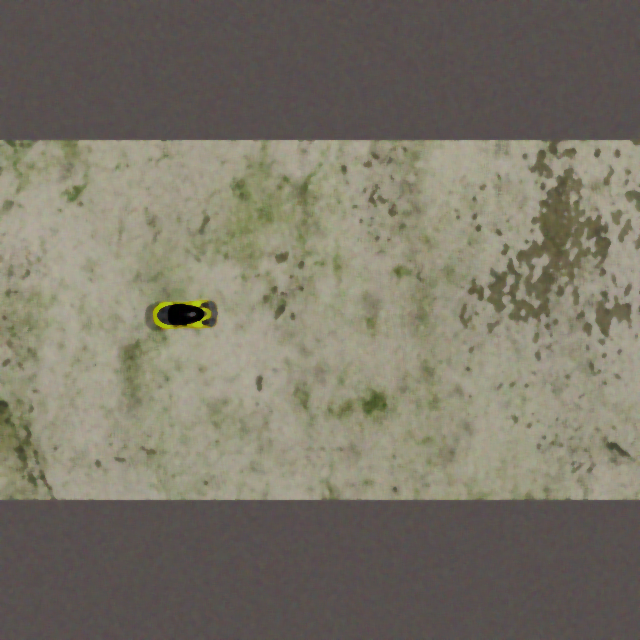car: (148, 298, 220, 331)
